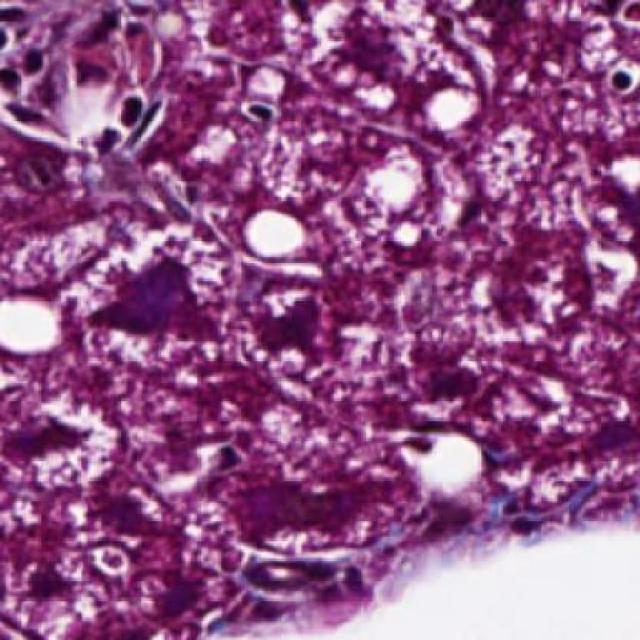inflammation: (0, 47, 118, 131)
